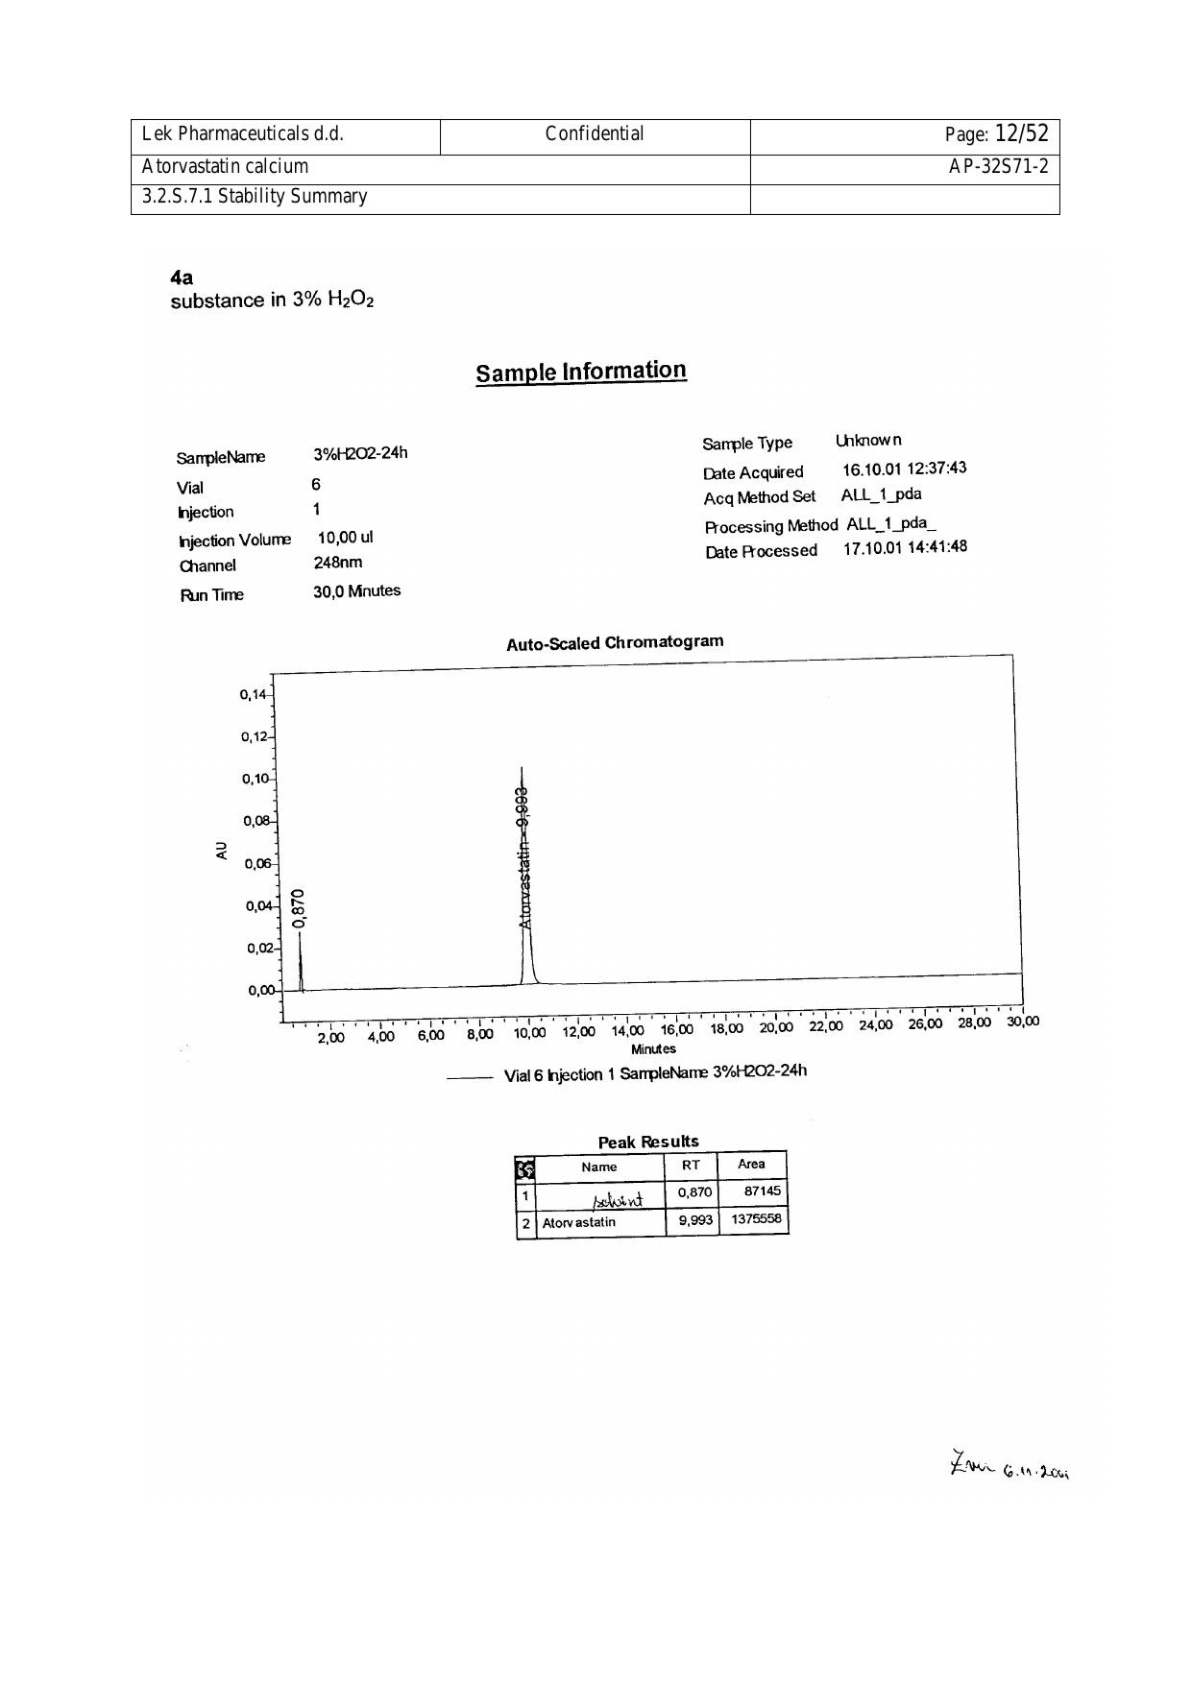full_lined: (129, 119, 1062, 217), (512, 1150, 791, 1240)
nolines: (172, 429, 973, 609)
